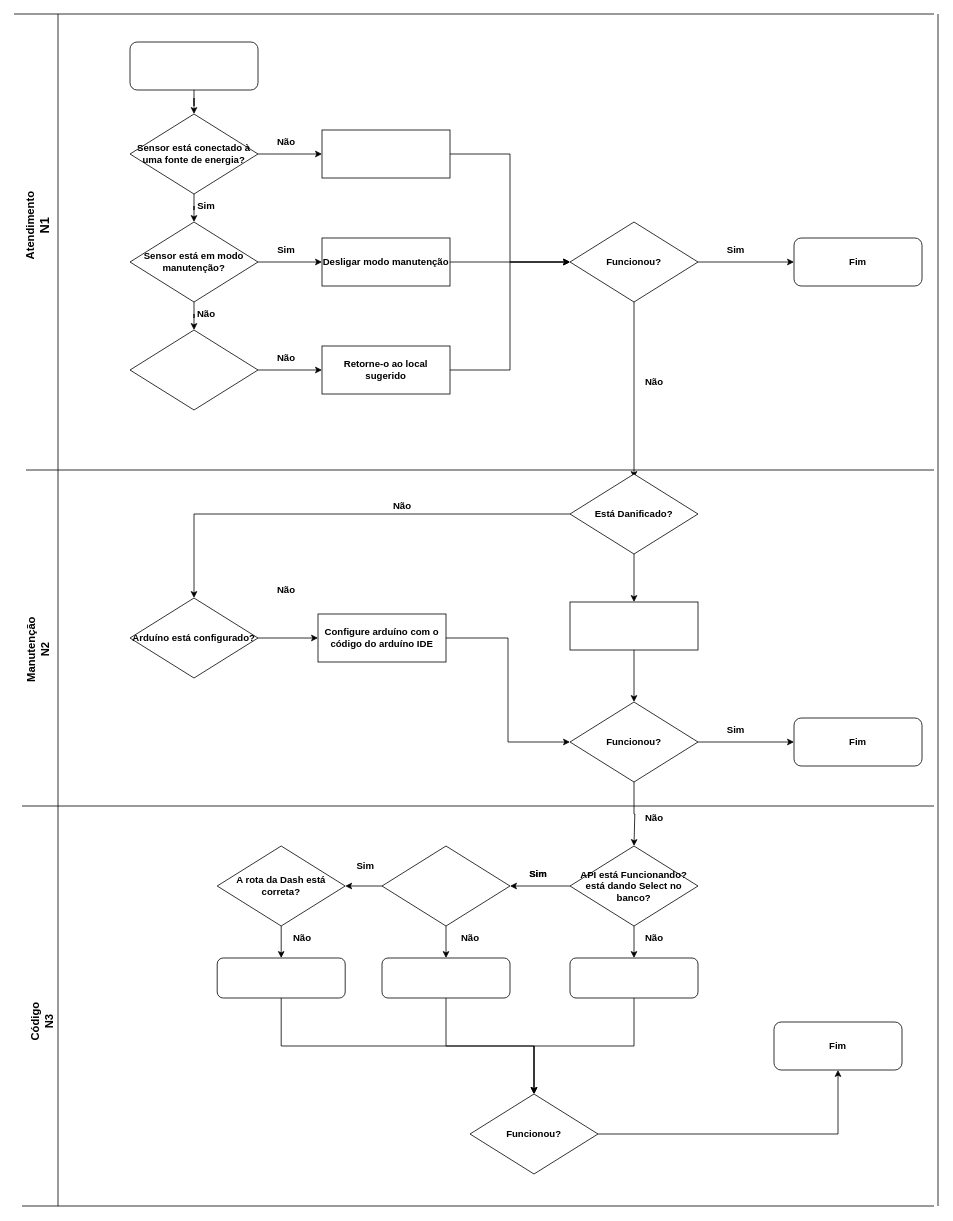
This 953x1221 diagram has some shape labels left out. The centre of each missing label's shape, as x and y in pixels:
"Arrume o insert" goes at point (445, 977).
"Arrume o select" goes at point (633, 977).
"Conecte à fonte de energia" goes at point (385, 153).
"Faça a rota corretamente" goes at point (280, 977).
"Os dados coletados estão sendo inserido no banco?" goes at point (445, 885).
"Sensor está no local que foi originalmente instalado?" goes at point (193, 369).
"Sensor não funciona" goes at point (193, 65).
"Substituir Sensor" goes at point (633, 625).
